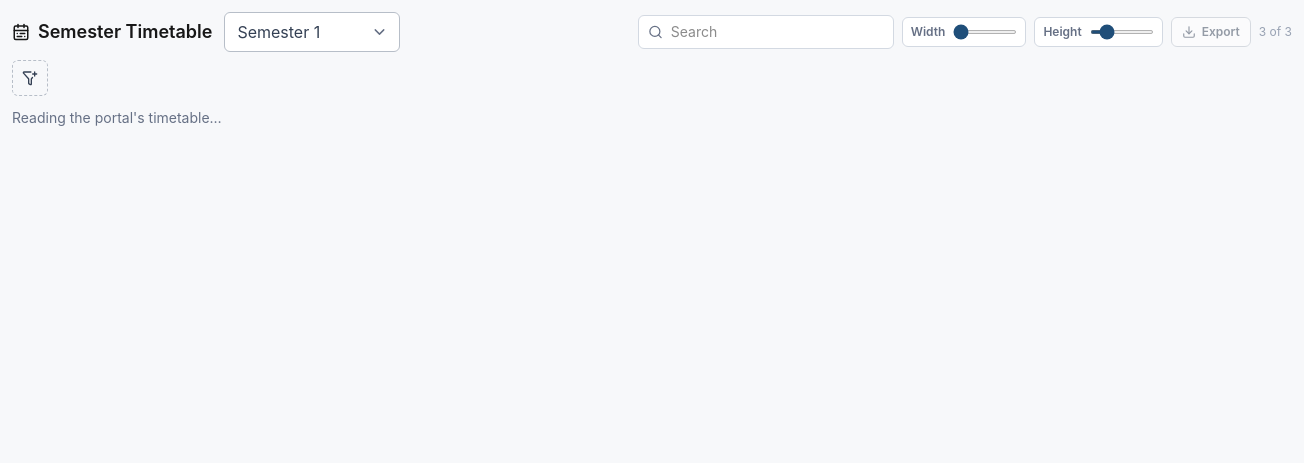
Test: a semester's whole week › searches the sections as a table does
This screenshot has width=1304, height=463.
Expected: the text "3 of 3" is shown, [1259, 24, 1292, 40]
Type "mola" into the search field named "Search sections" at (766, 32), box [638, 15, 894, 49]
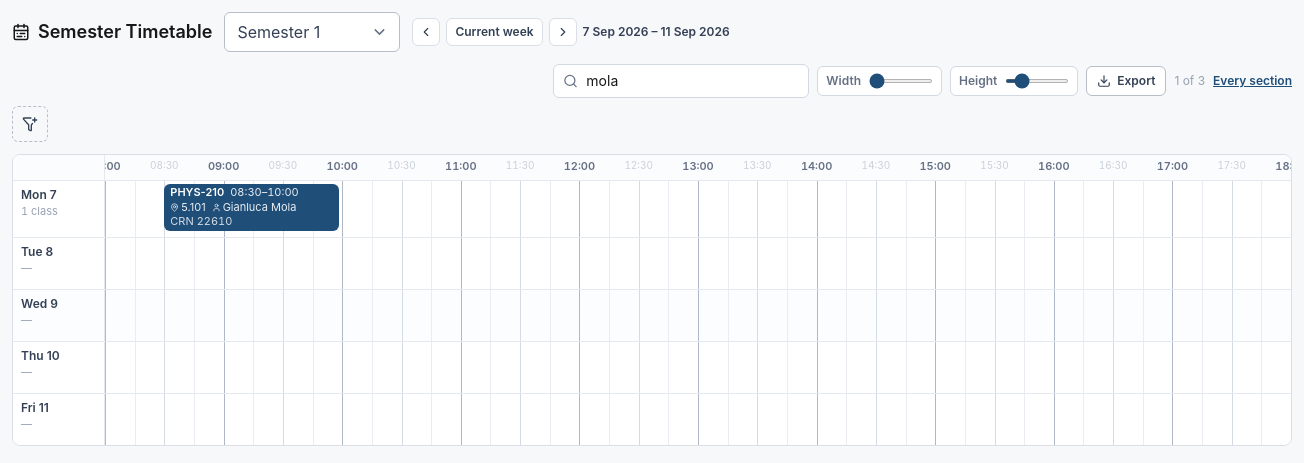
Now the text "1 of 3" is shown, box [1174, 73, 1205, 89]
